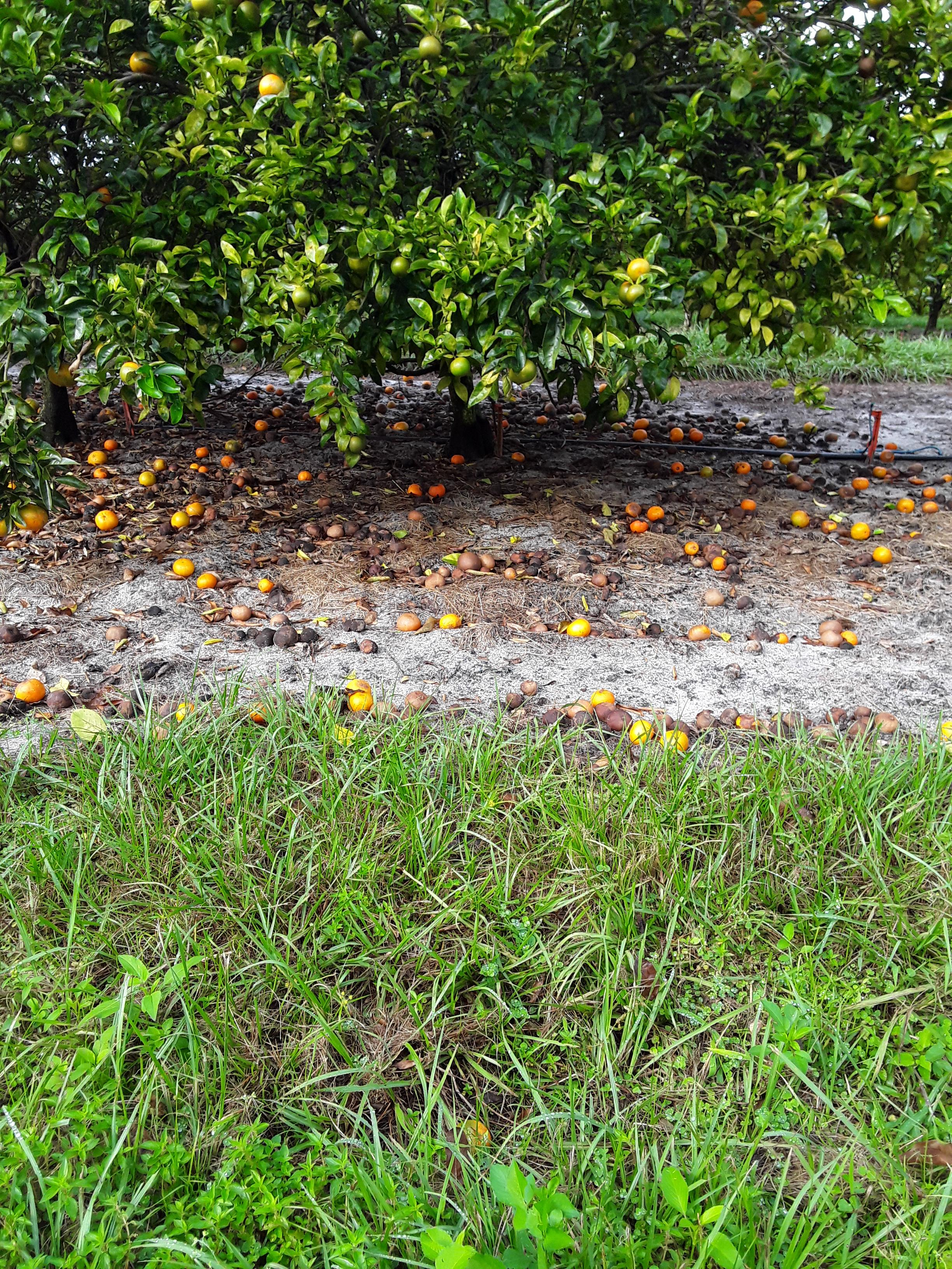fruit_on_ground: (16, 500, 49, 532), (46, 357, 80, 388), (735, 0, 771, 29), (126, 47, 159, 78), (415, 32, 445, 63), (255, 70, 287, 99), (507, 355, 537, 384), (744, 63, 774, 91), (117, 358, 147, 386), (233, 1, 264, 28), (616, 279, 647, 306), (344, 244, 373, 272), (891, 168, 922, 193), (7, 129, 34, 157), (624, 255, 653, 280), (89, 182, 116, 208), (447, 353, 474, 379), (289, 282, 314, 308), (388, 253, 413, 278), (663, 144, 689, 168), (855, 53, 879, 79), (17, 393, 41, 418), (868, 209, 894, 232), (186, 0, 219, 18), (812, 24, 836, 48), (860, 0, 894, 14), (345, 433, 367, 454), (602, 405, 625, 425), (668, 340, 689, 361), (228, 335, 249, 355), (315, 382, 337, 400), (595, 380, 613, 396), (0, 513, 10, 540)
fruit_on_tree: (456, 1115, 494, 1152), (14, 676, 47, 704), (628, 718, 655, 746), (43, 688, 74, 712), (662, 728, 690, 754), (93, 507, 121, 533), (344, 680, 373, 705), (809, 723, 839, 746), (603, 708, 631, 732), (346, 689, 373, 713), (873, 710, 898, 735), (766, 716, 793, 738), (566, 616, 593, 638), (590, 688, 616, 710), (404, 689, 430, 711), (394, 611, 421, 632), (457, 549, 480, 572), (0, 622, 22, 646), (172, 556, 196, 578), (594, 700, 619, 721), (695, 708, 718, 730), (275, 626, 299, 647), (439, 611, 463, 632), (249, 702, 270, 725), (194, 570, 218, 590), (103, 623, 129, 641), (845, 719, 867, 740), (872, 544, 894, 565), (687, 622, 711, 641), (819, 617, 844, 635), (703, 586, 724, 607), (116, 697, 136, 719), (849, 521, 871, 541), (230, 602, 253, 621), (572, 699, 596, 717), (303, 519, 325, 538), (820, 630, 843, 648), (937, 718, 952, 745), (827, 704, 847, 724), (790, 508, 810, 528), (137, 468, 157, 488), (718, 704, 739, 723), (631, 511, 653, 529), (735, 713, 757, 731), (176, 702, 196, 721), (255, 629, 275, 648), (504, 690, 524, 709), (170, 510, 190, 529), (140, 662, 161, 680), (539, 708, 560, 726), (82, 695, 105, 711), (656, 711, 675, 730), (841, 629, 860, 648), (478, 551, 497, 570), (300, 625, 320, 643), (623, 499, 643, 517), (645, 503, 665, 521), (268, 609, 289, 626), (423, 572, 444, 589), (86, 448, 107, 465), (520, 678, 539, 696), (256, 576, 275, 594), (185, 500, 204, 518), (88, 493, 108, 510), (629, 517, 650, 533), (791, 474, 813, 489), (852, 702, 870, 720), (326, 521, 345, 538), (778, 451, 797, 468), (427, 481, 446, 498), (590, 571, 608, 588), (149, 455, 167, 472), (683, 539, 700, 557), (144, 602, 163, 618), (91, 464, 110, 480), (838, 484, 857, 500), (223, 438, 242, 454), (921, 499, 940, 515), (896, 496, 915, 512), (850, 474, 870, 489), (362, 609, 379, 626), (782, 710, 799, 727), (342, 520, 359, 537), (710, 554, 727, 571), (406, 481, 424, 497), (704, 544, 724, 558), (768, 433, 788, 447), (735, 594, 752, 610), (156, 701, 173, 717), (687, 425, 703, 442), (668, 425, 685, 441), (309, 409, 327, 424), (644, 457, 662, 472), (315, 494, 333, 509), (102, 436, 120, 451), (565, 705, 584, 719), (4, 475, 19, 492), (95, 408, 112, 423), (690, 554, 707, 569), (407, 508, 424, 523), (647, 622, 665, 636), (907, 461, 925, 475), (733, 460, 751, 474), (203, 505, 218, 521), (502, 566, 518, 581), (821, 518, 837, 533), (872, 463, 888, 478), (740, 497, 756, 512), (877, 448, 894, 462), (634, 416, 651, 430), (509, 449, 526, 463), (449, 451, 466, 465), (296, 468, 313, 482), (921, 486, 938, 500), (391, 419, 409, 432), (219, 453, 234, 468), (699, 464, 714, 479), (238, 465, 254, 479), (571, 411, 587, 425), (669, 460, 685, 474), (783, 473, 800, 486), (775, 632, 790, 646), (194, 445, 209, 459), (802, 420, 817, 434), (254, 418, 269, 432), (617, 418, 633, 431), (243, 388, 259, 401), (632, 428, 648, 441), (824, 429, 840, 442), (823, 482, 838, 495), (435, 565, 450, 578), (543, 401, 558, 414), (231, 473, 246, 486), (908, 472, 924, 484), (882, 439, 898, 451), (316, 469, 330, 482), (509, 552, 523, 565), (760, 457, 774, 470), (534, 414, 548, 427), (608, 419, 623, 431), (735, 416, 749, 428), (273, 383, 287, 395), (399, 371, 414, 382), (414, 420, 427, 432), (262, 383, 275, 395), (374, 402, 388, 413), (271, 405, 283, 417), (847, 428, 860, 439), (498, 418, 511, 429), (421, 378, 433, 389), (197, 463, 209, 474), (383, 384, 395, 395), (940, 472, 951, 483), (394, 392, 406, 402), (386, 400, 396, 410)
